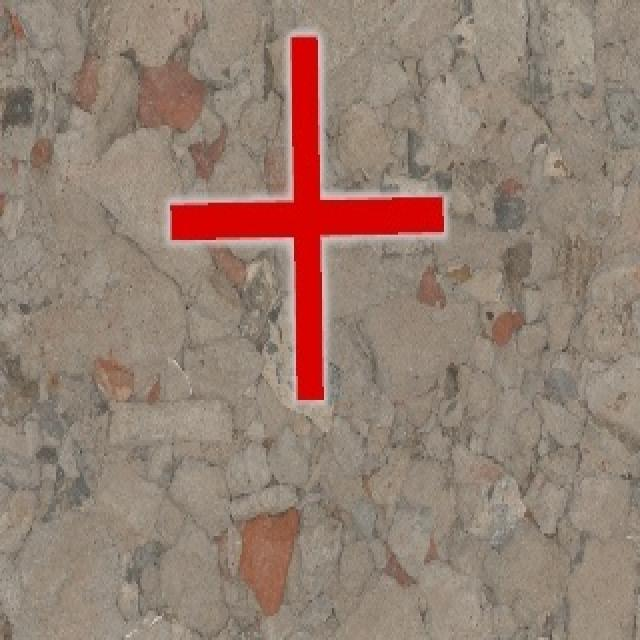x_marker: (169, 33, 443, 399)
